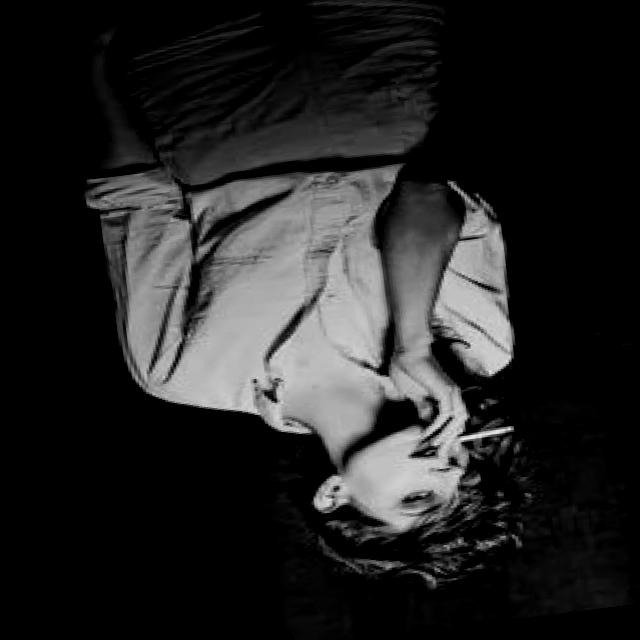cigarette: (422, 419, 518, 458)
